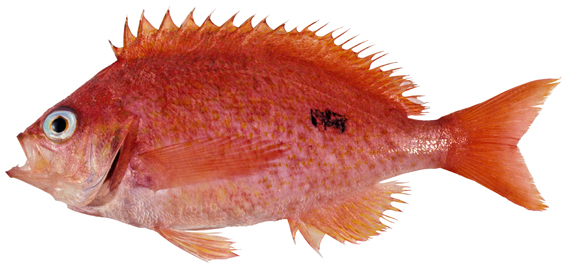fish: (6, 7, 559, 263)
